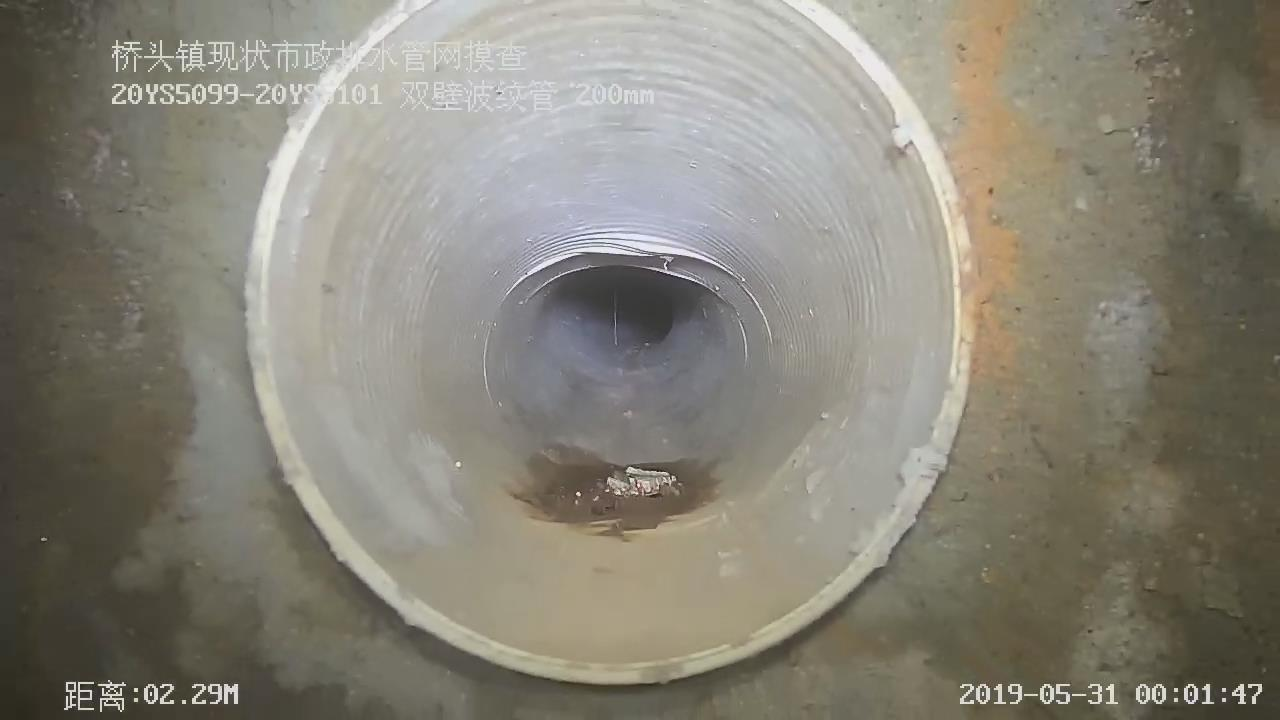BX: (513, 218, 776, 337)
